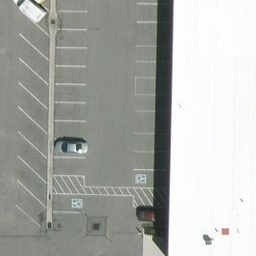car: (55, 137, 91, 155), (14, 1, 46, 21), (136, 205, 164, 223)
